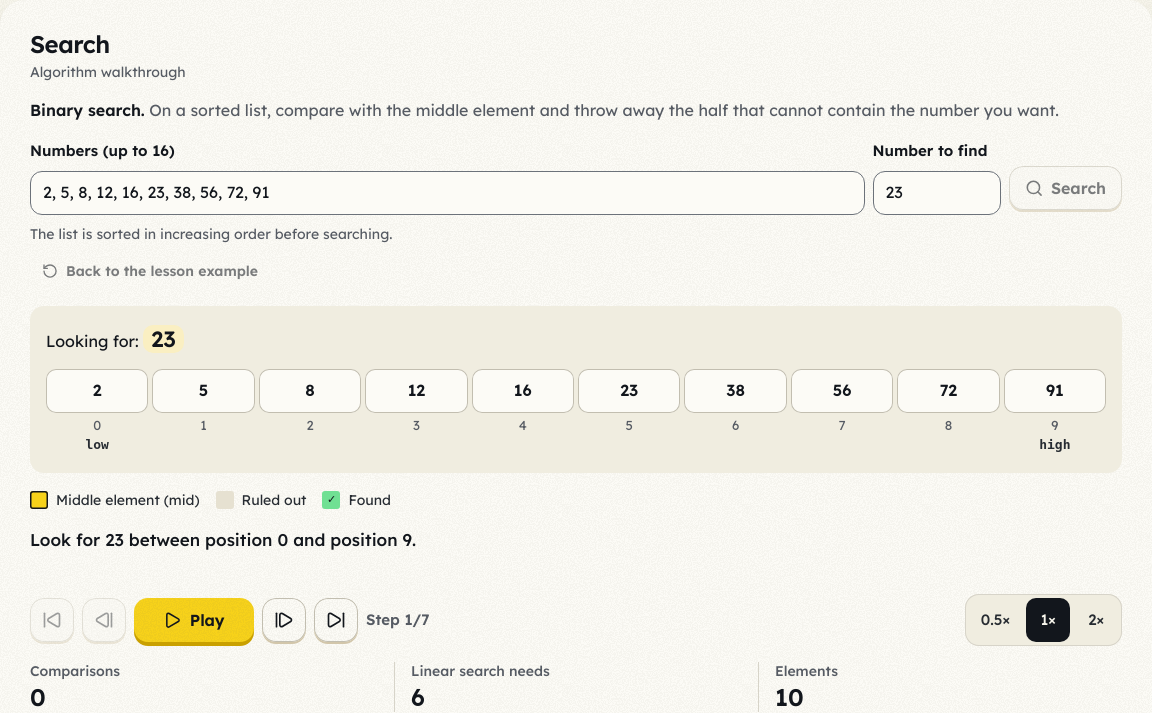
Scenario: binary search › sorts an unordered list before searching and says so
Replace the text in the field labelled "Numbers (up to 16)" with "9 4 15 1 7" at (447, 193), box [30,171,864,215]
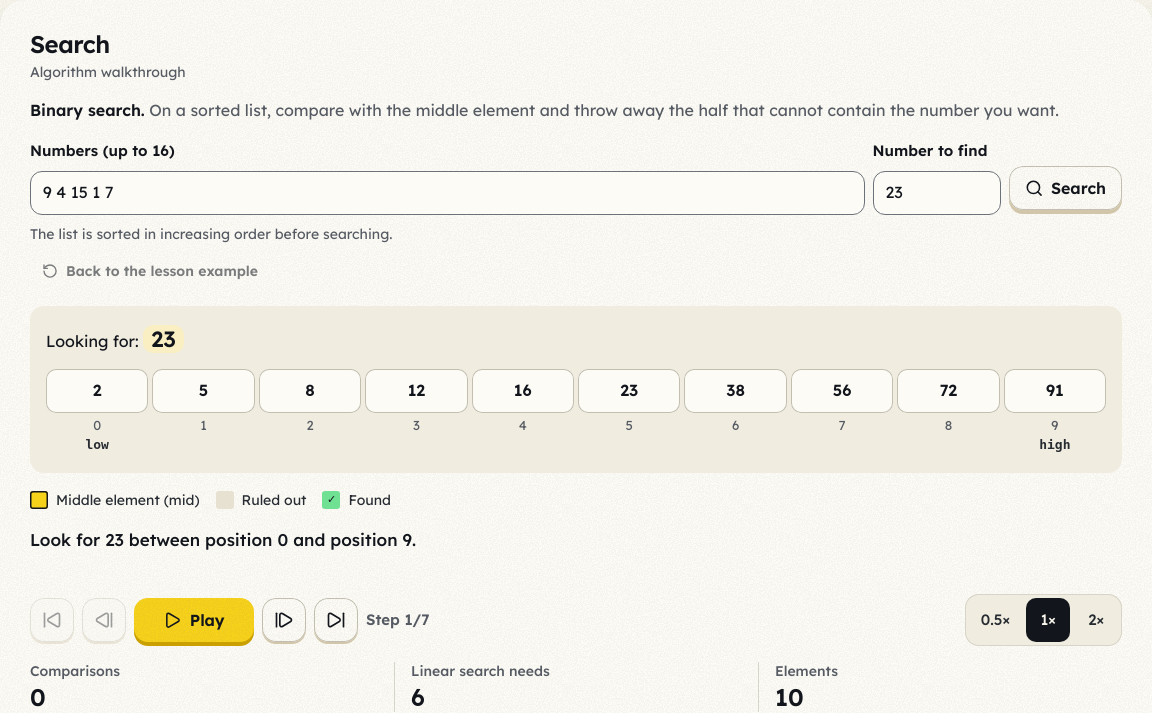
Replace the text in the field labelled "Number to find" with "8" at (936, 193), box [872,171,1000,215]
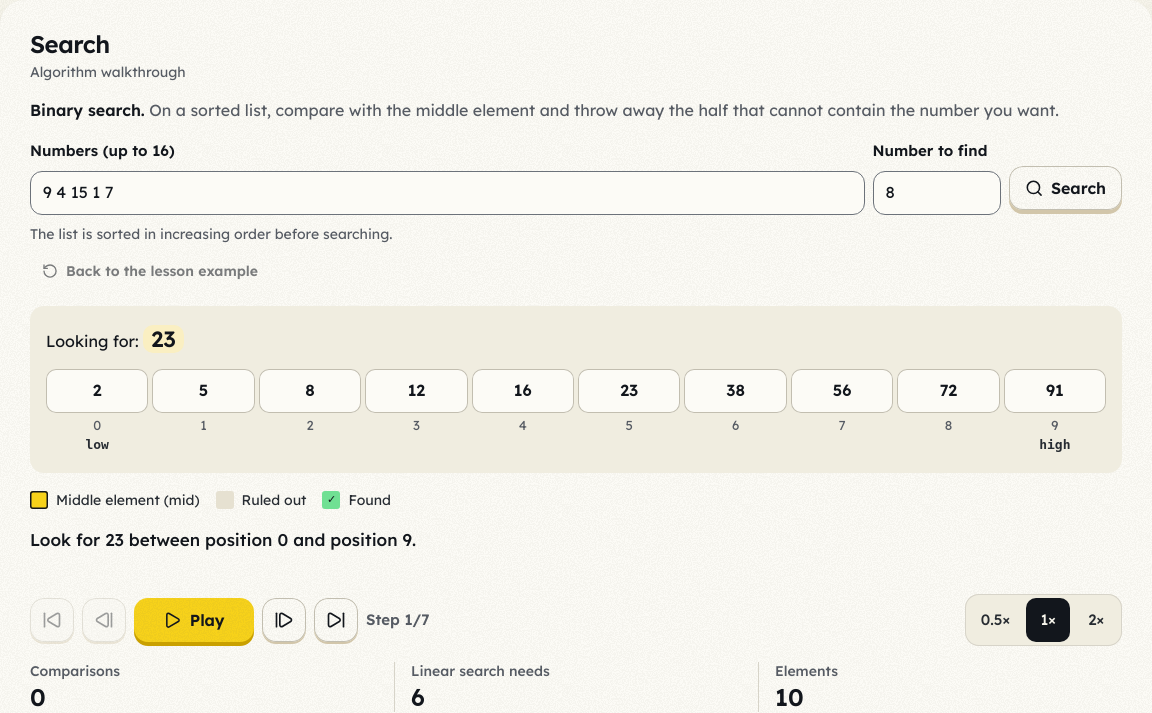
Click the button "Search" at (1065, 188), box [1008,166,1122,210]
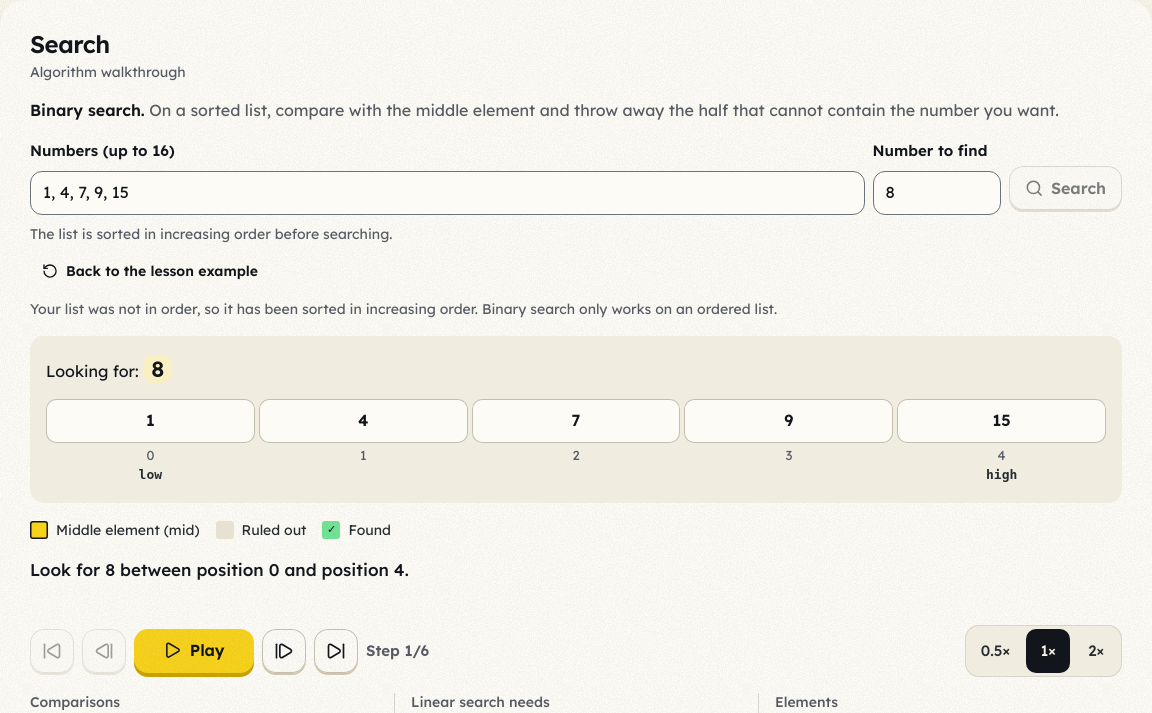
Result: the text "Your list was not in order" is shown at [30,300,777,318]
Click the button named "Last step" at (336, 651), box [314,629,358,673]
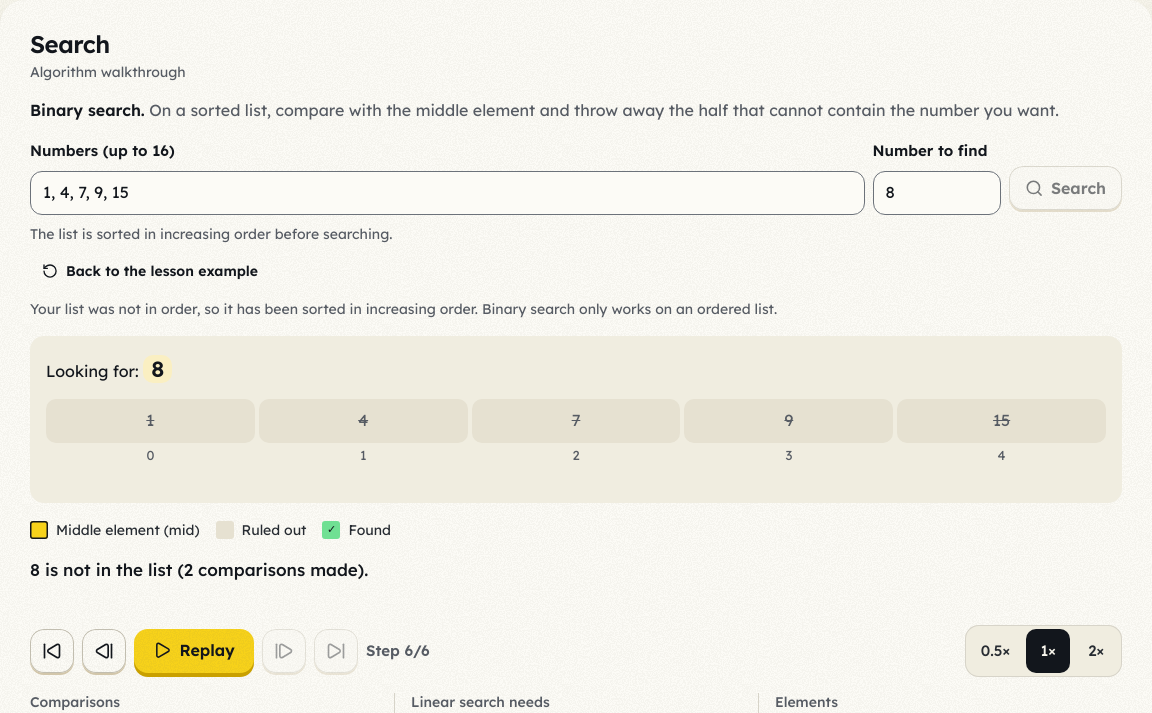
Result: the text with class "alg-msg" reads "8 is not in the list (2 comparisons made)." at [30,560,368,580]
